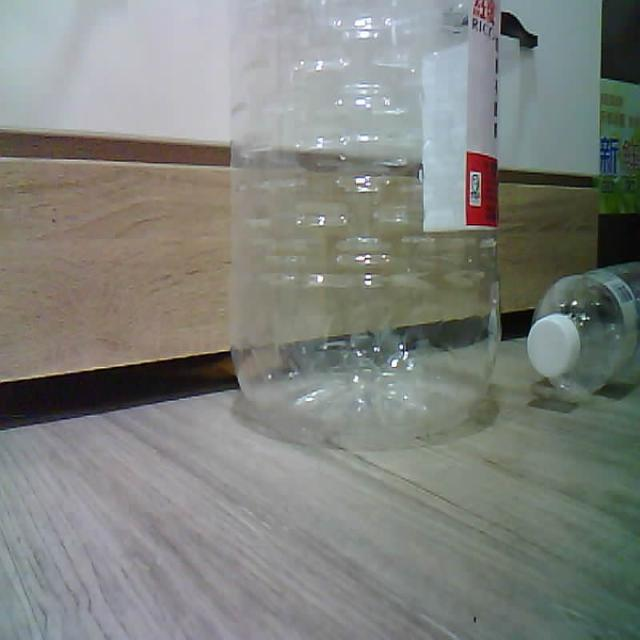bottle: (230, 0, 502, 447), (527, 261, 639, 399)
